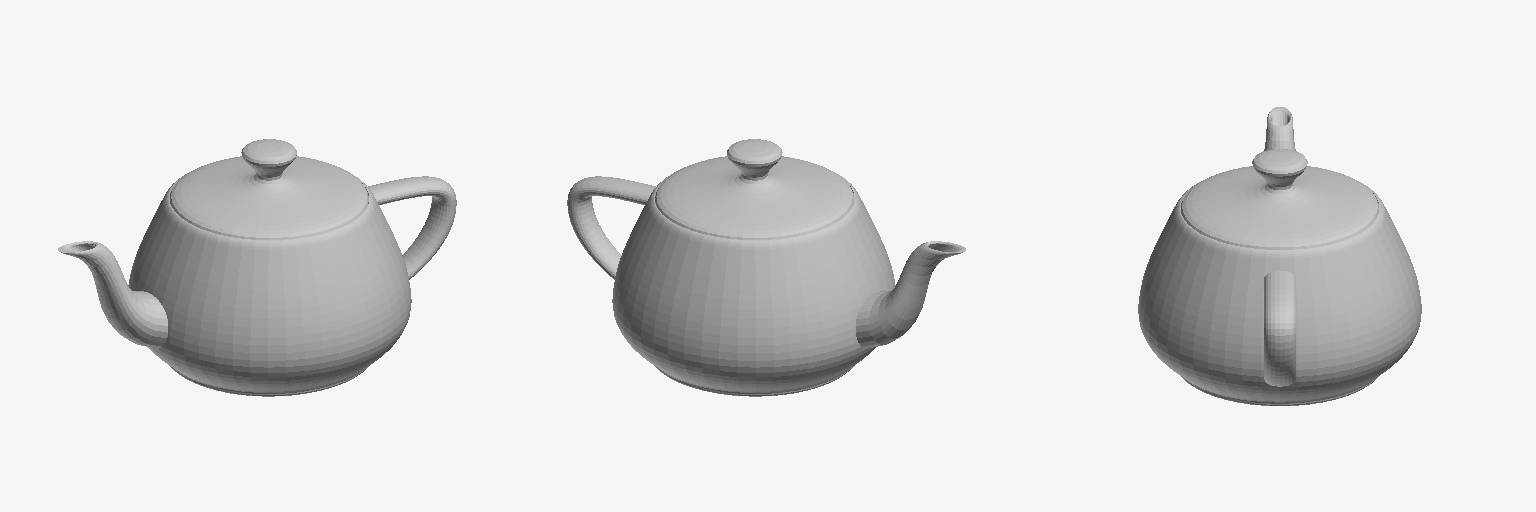
The model's file is Teapot2.obj.
3 renders of one model, left to right at view 1: azimuth 30°, elevation 25°; view 2: azimuth 150°, elevation 25°; view 3: azimuth 270°, elevation 25°, orthographic.
Visible parts, largest first — view 1: teapot; view 2: teapot; view 3: teapot.
Part boxes in pixels (x1,y1,x2,y2): teapot: (58,139,456,396); teapot: (567,139,965,396); teapot: (1138,107,1421,405).
Bounding box in the file's own units: 154 × 79.01 × 95.86.